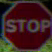Stop: (5, 9, 48, 39)
